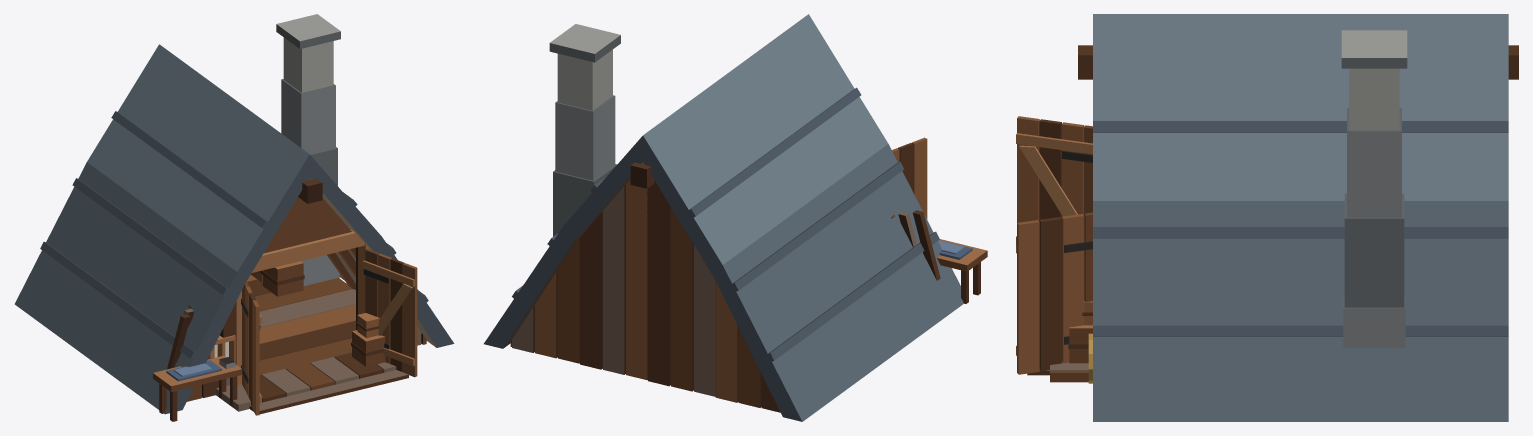
The model's file is experience-cabin.glb.
3 renders of one model, left to right at view 1: azimuth 30°, elevation 25°; view 2: azimuth 150°, elevation 25°; view 3: azimuth 270°, elevation 25°, orthographic. The views are drawn at different scales.
Parts seen in each view (by area): view 1: cabin-shell, cabin-chimney, cabin-floor, cabin-gable-south, cabin-threshold-deck, cabin-battens, cabin-door-right, cabin-outdoor-work, cabin-crates, cabin-door-left, cabin-rafters, cabin-ridge-beam; view 2: cabin-shell, cabin-gable-north, cabin-chimney, cabin-battens, cabin-outdoor-work, cabin-door-left, cabin-ridge-beam; view 3: cabin-shell, cabin-chimney, cabin-battens, cabin-door-right, cabin-door-left, cabin-crates, cabin-ridge-beam, cabin-threshold-deck.
Part boxes in pixels (x1,y1,x2,y2): cabin-shell: [14, 44, 454, 414]; cabin-chimney: [276, 14, 340, 285]; cabin-floor: [247, 275, 355, 374]; cabin-gable-south: [187, 197, 426, 401]; cabin-threshold-deck: [216, 352, 408, 414]; cabin-battens: [40, 111, 428, 360]; cabin-door-right: [362, 249, 417, 377]; cabin-outdoor-work: [153, 305, 242, 421]; cabin-crates: [251, 261, 385, 366]; cabin-door-left: [241, 281, 261, 415]; cabin-rafters: [327, 247, 355, 289]; cabin-ridge-beam: [298, 178, 322, 203]; cabin-shell: [484, 14, 963, 421]; cabin-gable-north: [510, 180, 780, 412]; cabin-chimney: [549, 24, 620, 236]; cabin-battens: [512, 87, 939, 361]; cabin-outdoor-work: [891, 210, 987, 303]; cabin-door-left: [892, 137, 927, 219]; cabin-ridge-beam: [630, 162, 654, 188]; cabin-shell: [1093, 14, 1508, 421]; cabin-chimney: [1341, 30, 1407, 347]; cabin-battens: [1093, 121, 1508, 336]; cabin-door-right: [1016, 212, 1092, 374]; cabin-door-left: [1016, 116, 1092, 253]; cabin-crates: [1068, 301, 1092, 363]; cabin-ridge-beam: [1078, 45, 1518, 79]; cabin-threshold-deck: [1027, 362, 1088, 382].
Bounding box in the file's own units: 6.32 × 5.16 × 6.75.
Materials: 1 (1 with a texture image).
